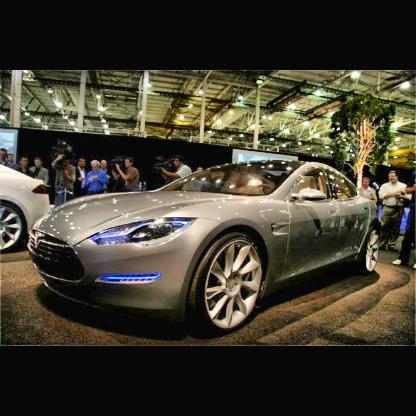Tesla Model S Sedan 2012: (17, 149, 398, 342)
